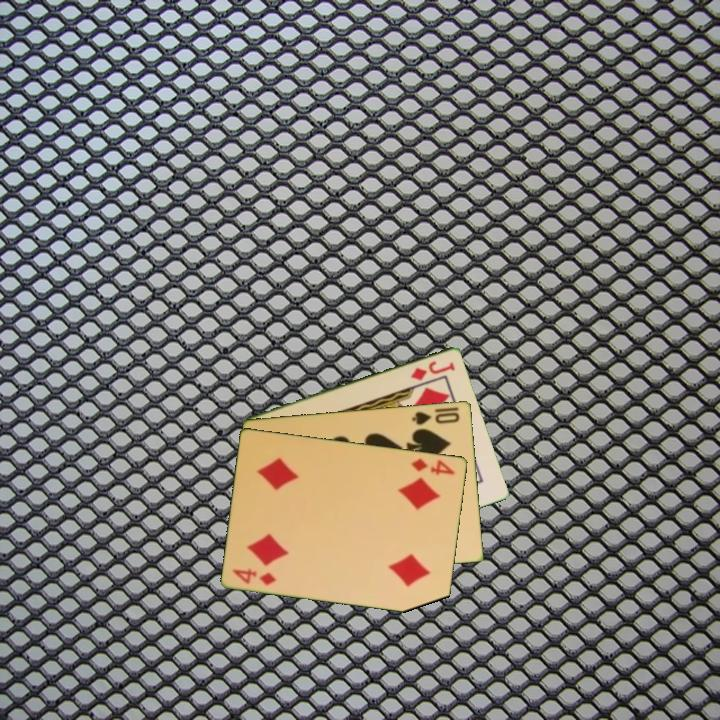10s: (409, 408, 462, 427)
4d: (408, 454, 458, 478), (229, 564, 279, 588)
Jd: (407, 357, 458, 383)
